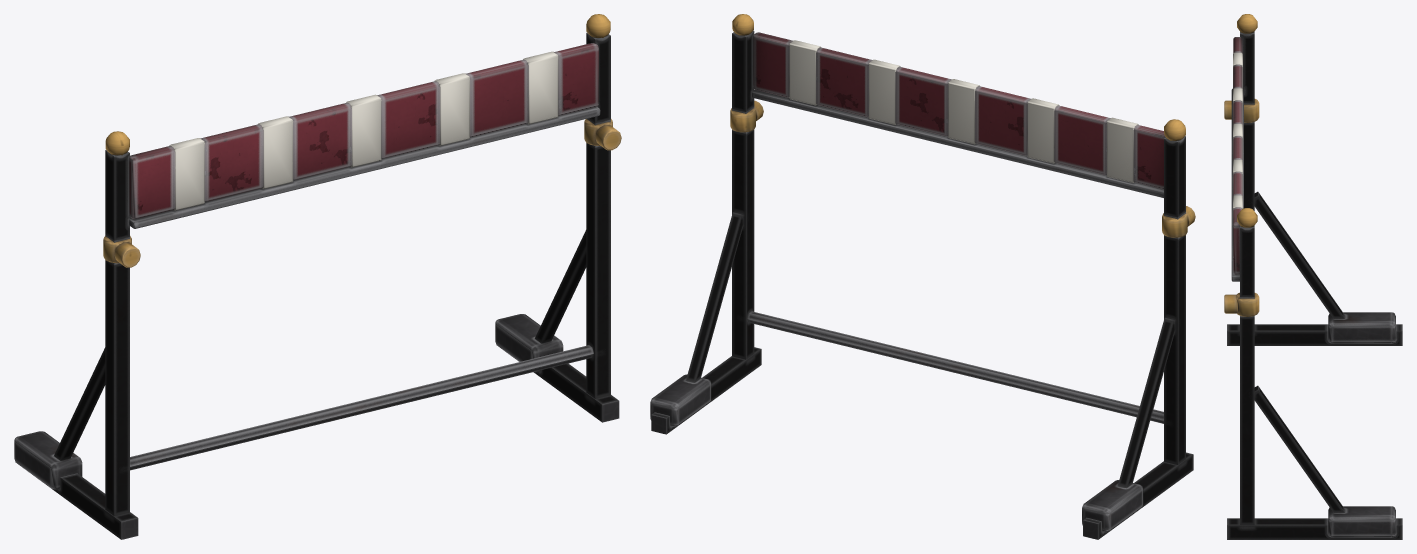
The model's file is Hurdle.fbx.
3 renders of one model, left to right at view 1: azimuth 30°, elevation 25°; view 2: azimuth 150°, elevation 25°; view 3: azimuth 270°, elevation 25°, orthographic. The views are drawn at different scales.
Parts seen in each view (by area): view 1: Hurdle; view 2: Hurdle; view 3: Hurdle.
Part boxes in pixels (bbox=[...]): Hurdle: bbox=[14, 14, 621, 539]; Hurdle: bbox=[650, 14, 1195, 539]; Hurdle: bbox=[1224, 14, 1402, 539].
Bounding box in the file's own units: 362 × 268 × 132.
